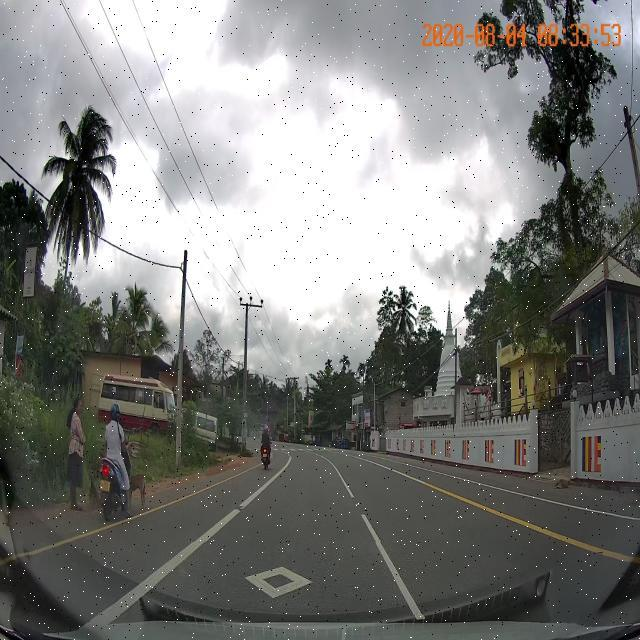diamond: (101, 543, 428, 615)
